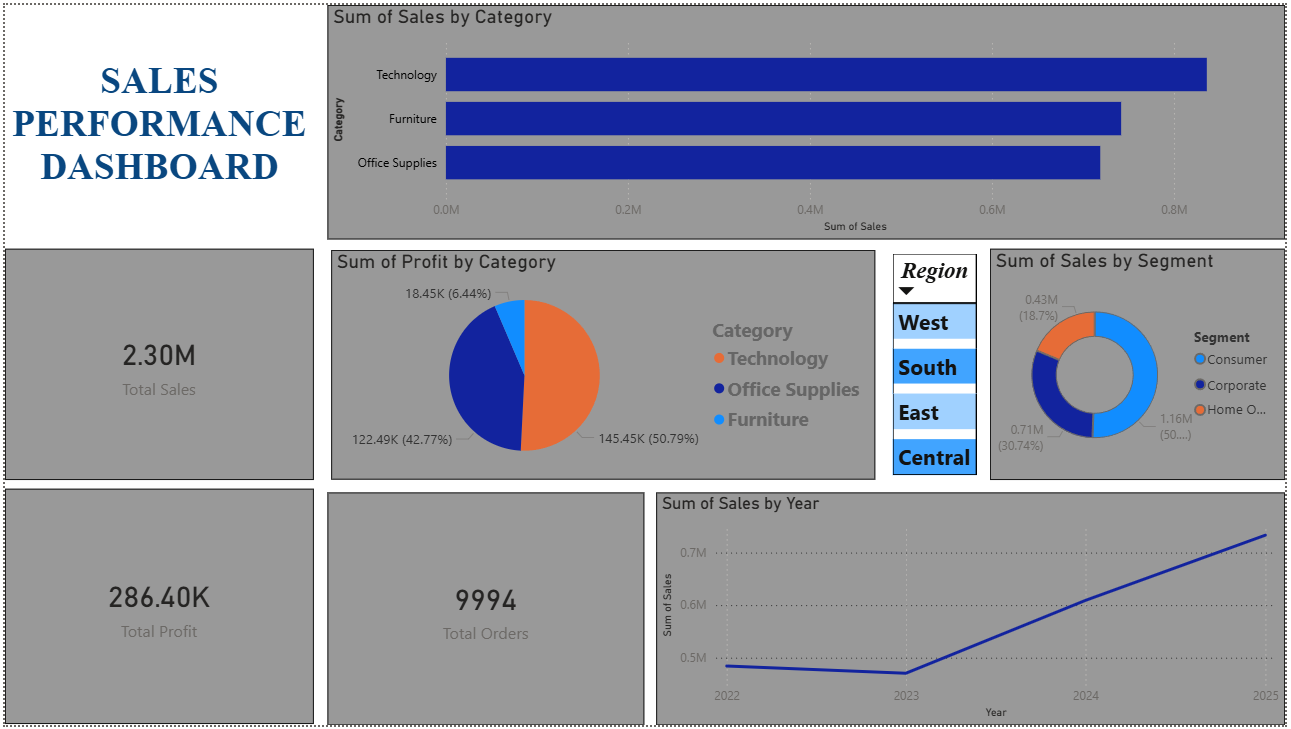

This screenshot's page, from the dashboard's own definition file:
{"tool":"powerbi","page":{"name":"Page 1","canvas":[1280,720],"ordinal":0},"visuals":[{"type":"card","fields":{"Values":["Sum(Orders.Sales)"]},"box":[0,243.5,308.8,231.3],"z":0},{"type":"card","fields":{"Values":["Sum(Orders.Profit)"]},"box":[0,484.4,308.8,235.4],"z":1000},{"type":"clusteredBarChart","fields":{"Category":["Orders.Category"],"Y":["Sum(Orders.Sales)"]},"box":[322.5,0,957.8,234],"z":2000},{"type":"lineChart","fields":{"Category":["Orders.Order Date.Variation.Date Hierarchy.Year","Orders.Order Date.Variation.Date Hierarchy.Quarter","Orders.Order Date.Variation.Date Hierarchy.Month","Orders.Order Date.Variation.Date Hierarchy.Day"],"Y":["Sum(Orders.Sales)"]},"box":[651.7,487.1,628.6,232.7],"z":3000},{"type":"tableEx","fields":{"Values":["Orders.Region"]},"box":[881.6,243.5,103.4,231.3],"z":4000},{"type":"textbox","box":[0,49,308.8,163.3],"z":5000},{"type":"card","fields":{"Values":["CountNonNull(Orders.Order ID)"]},"box":[322.5,487.1,317,232.7],"z":6000},{"type":"pieChart","fields":{"Category":["Orders.Category"],"Y":["Sum(Orders.Profit)"]},"box":[326.5,244.9,544.2,229.9],"z":7000},{"type":"donutChart","fields":{"Category":["Orders.Segment"],"Y":["Sum(Orders.Sales)"]},"box":[985,243.5,295.2,231.3],"z":8000}]}

Visuals, with their boxes in screenshot pixels (x1, y1, x2, y2), scaled from the page's 1280x720 canvas onto the 1291x729 screenshot:
card - Sum(Orders.Sales): 0/247/311/481
card - Sum(Orders.Profit): 0/490/311/728
clusteredBarChart - Orders.Category x Sum(Orders.Sales): 325/0/1290/237
lineChart - Orders.Order Date.Variation.Date Hierarchy.Year x Orders.Order Date.Variation.Date Hierarchy.Quarter: 657/493/1290/728
tableEx - Orders.Region: 889/247/993/481
textbox: 0/50/311/215
card - CountNonNull(Orders.Order ID): 325/493/645/728
pieChart - Orders.Category x Sum(Orders.Profit): 329/248/878/481
donutChart - Orders.Segment x Sum(Orders.Sales): 993/247/1290/481
